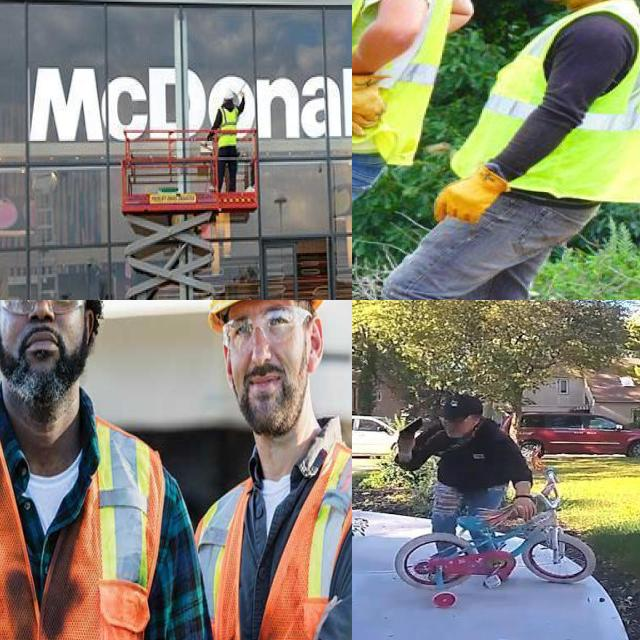No_Ear-Protection: (474, 410, 484, 428)
face_nomask: (212, 300, 321, 430), (0, 300, 84, 390), (444, 423, 474, 440)
glasses: (219, 303, 305, 353), (0, 300, 86, 322)
hand_glove: (437, 164, 516, 233), (352, 60, 403, 143)
hand_noglove: (504, 483, 544, 523)
head_helmet: (207, 300, 325, 328), (224, 88, 233, 100)
person: (0, 300, 214, 640), (195, 300, 352, 640), (463, 0, 640, 300), (383, 378, 560, 597), (352, 0, 455, 300), (214, 85, 245, 195)
vest: (0, 408, 163, 640), (464, 7, 640, 207), (193, 440, 352, 640), (352, 0, 438, 148), (214, 104, 239, 149)
